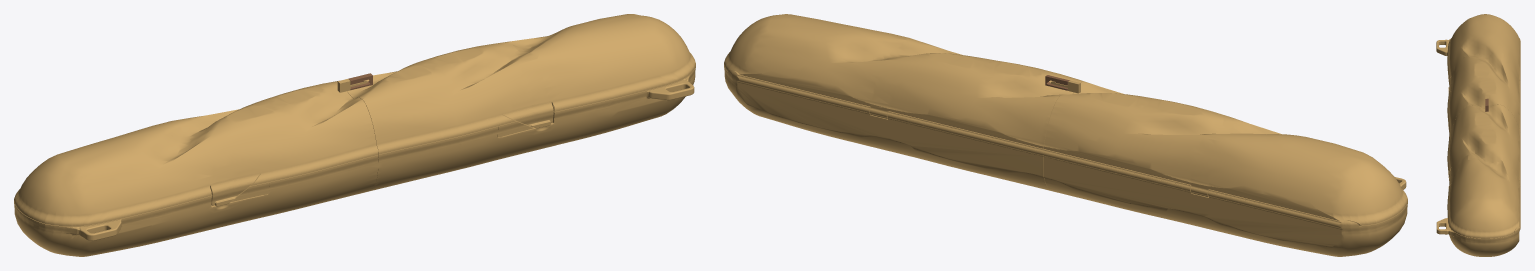
Rendered from baguette-v3.glb.
The picture shows the model from 3 angles, left to right: view 1: azimuth 30°, elevation 25°; view 2: azimuth 150°, elevation 25°; view 3: azimuth 270°, elevation 25°; orthographic projection. The views are drawn at different scales.
Parts seen in each view (by area): view 1: lid_A, lid_B, base_A, base_B; view 2: lid_A, lid_B, base_A, base_B; view 3: lid_B, lid_A, base_B, base_A.
Boxes of the visible parts, <box> form: lid_A: <box>14,81,378,226</box>; lid_B: <box>337,14,695,154</box>; base_A: <box>14,155,378,256</box>; base_B: <box>368,66,695,191</box>; lid_A: <box>1044,81,1407,225</box>; lid_B: <box>724,14,1083,148</box>; base_A: <box>1043,149,1407,256</box>; base_B: <box>724,65,1051,190</box>; lid_B: <box>1447,104,1520,238</box>; lid_A: <box>1447,14,1520,130</box>; base_B: <box>1436,131,1520,256</box>; base_A: <box>1436,38,1520,132</box>.
Size of the model in its own units: 622 by 91.71 by 106.
